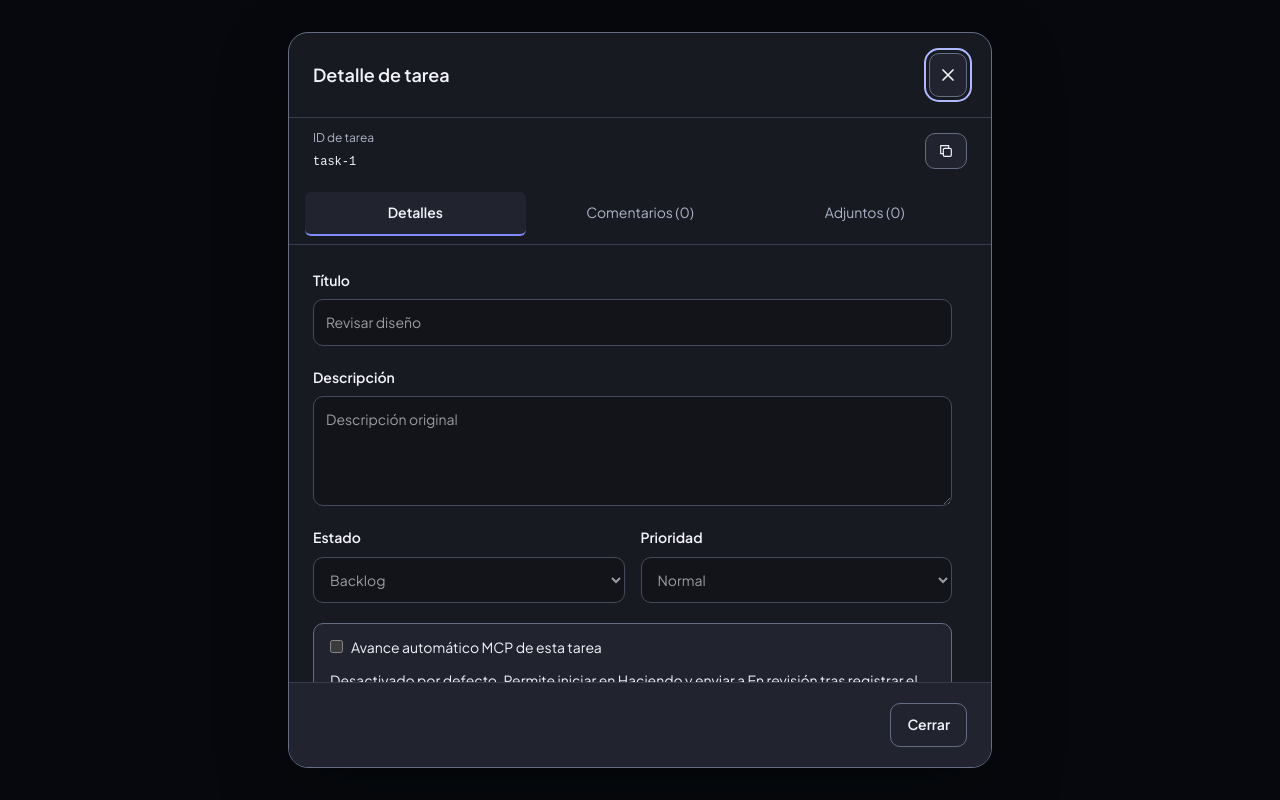
Scenario: Detalle de tarea › bloquea el doble envío de comentario pendiente y solo lo vacía tras éxito
Click the tab "Comentarios (0)" at (640, 214), box [530,192,750,236]
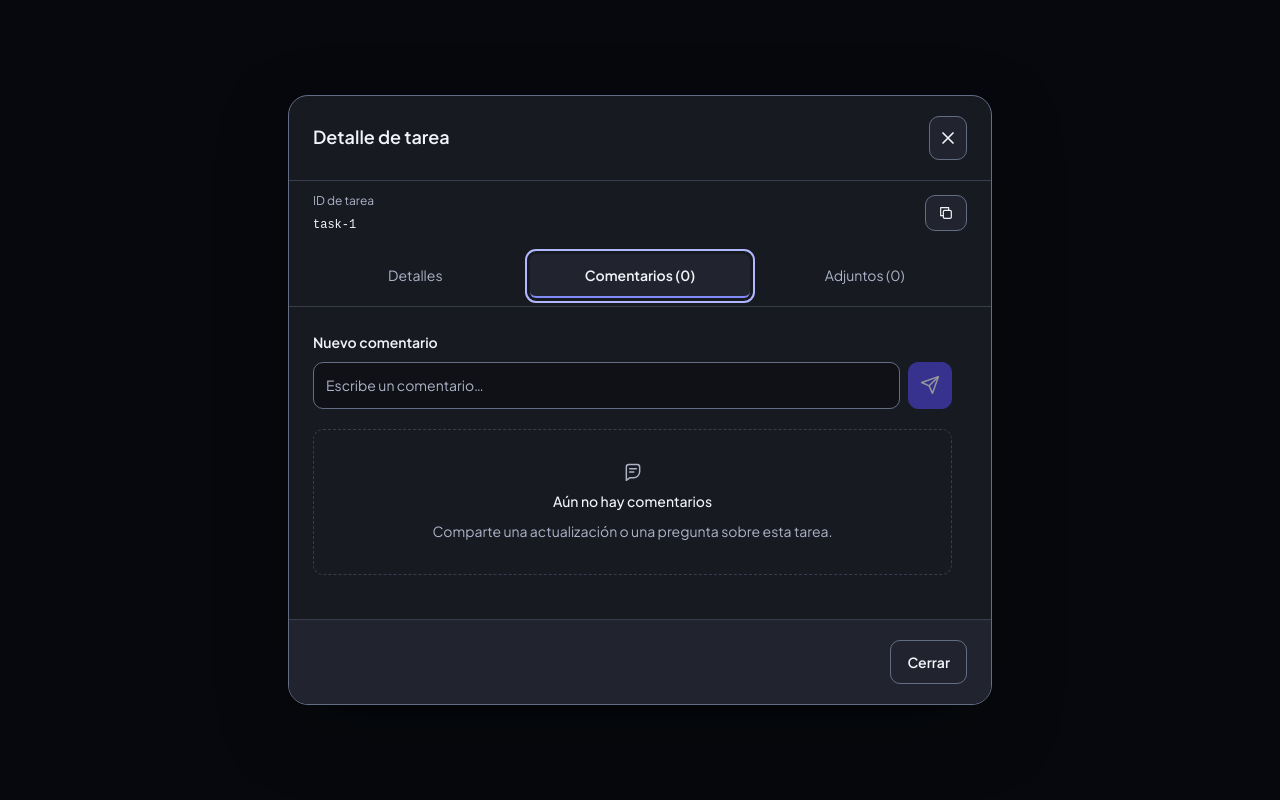
Type "Mi actualización" into the field labelled "Nuevo comentario" at (606, 385), box [313,362,900,409]
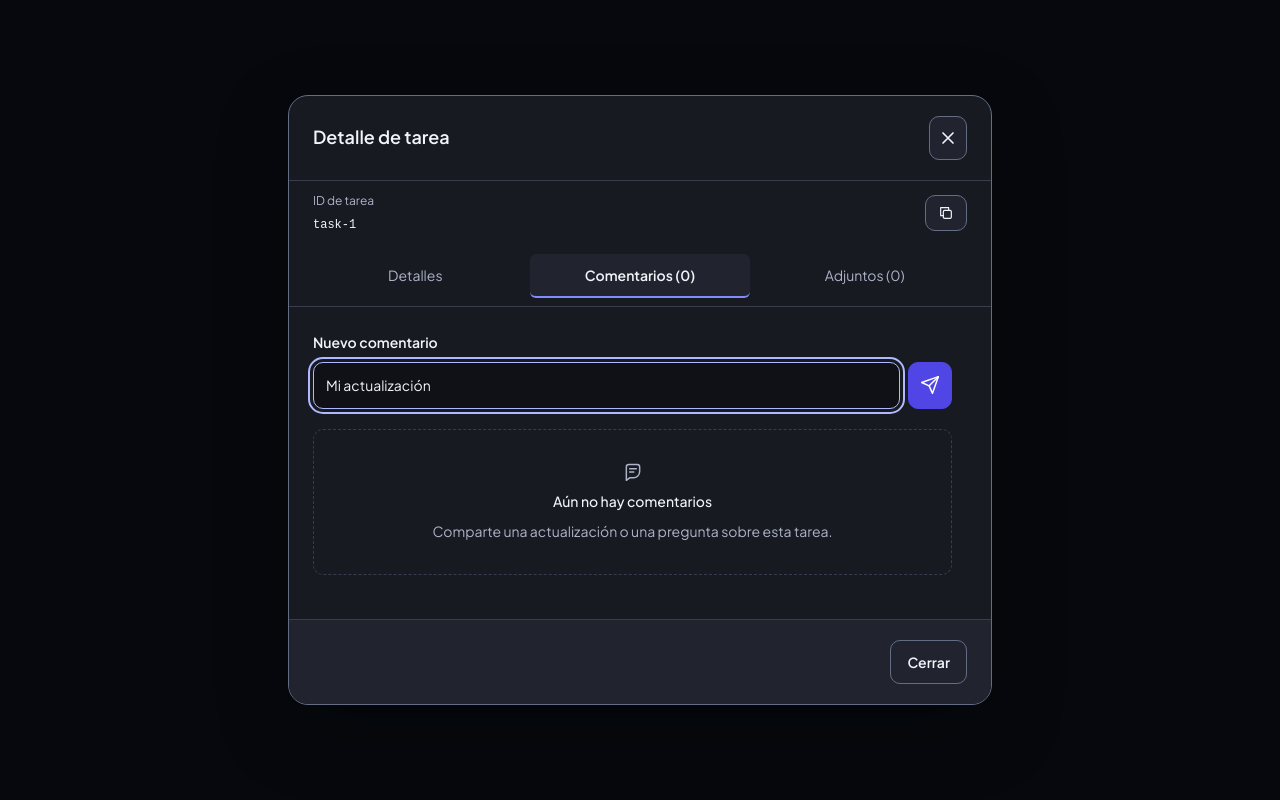
Double-click the button named "Enviar" at (930, 385), box [908,362,952,409]
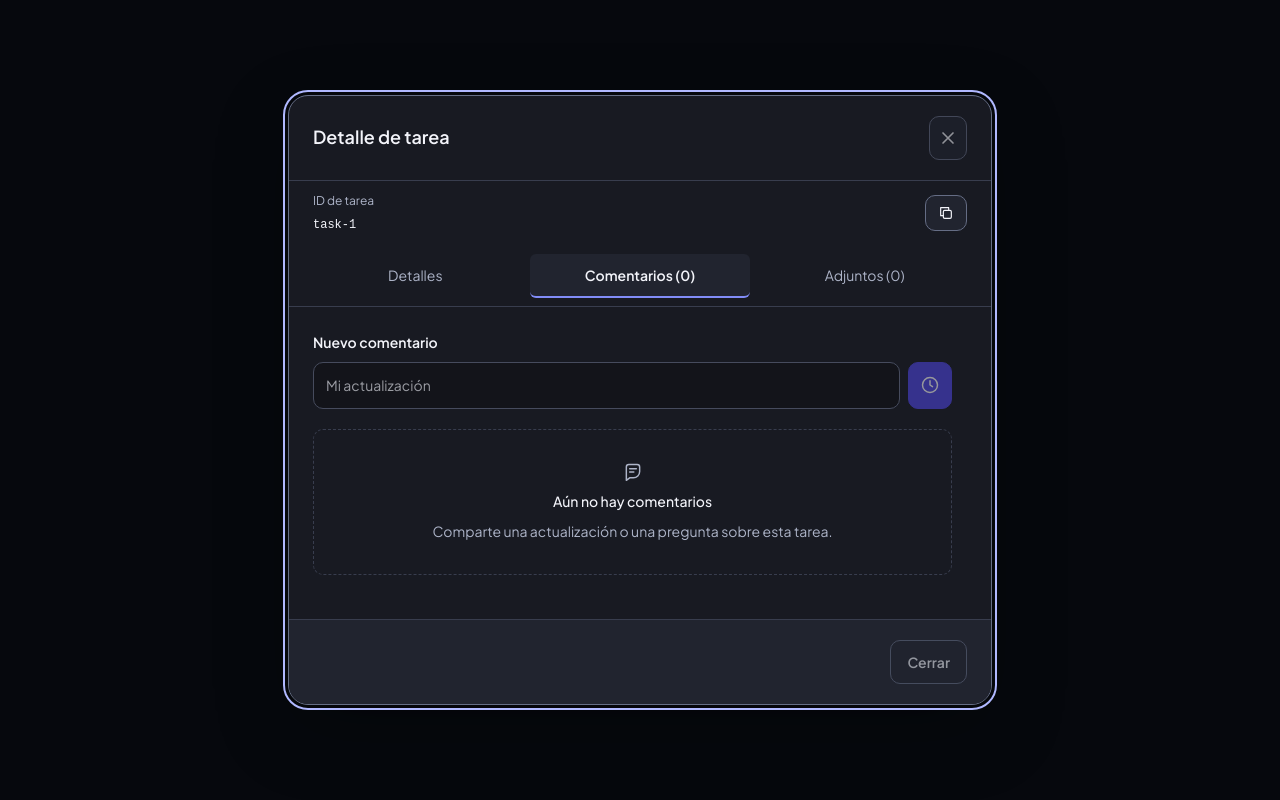
Now the button named "Enviando…" is disabled
Now the field labelled "Nuevo comentario" is disabled, box [313,362,900,409]
Click the button named "Enviando…" at (930, 385), box [908,362,952,409]
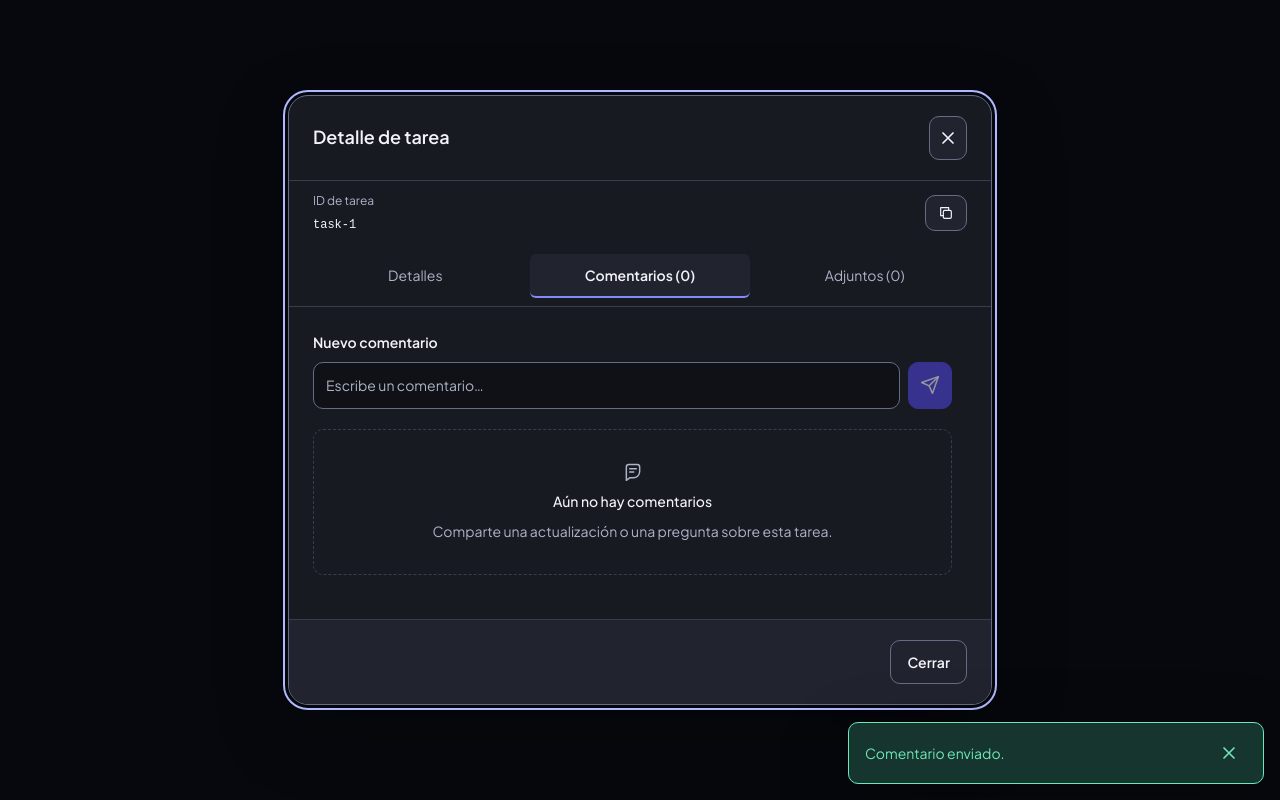
Now the field labelled "Nuevo comentario" is empty, box [313,362,900,409]
Now the field labelled "Nuevo comentario" is enabled, box [313,362,900,409]
Now the message reads "Comentario enviado.", box [865,744,1005,762]
